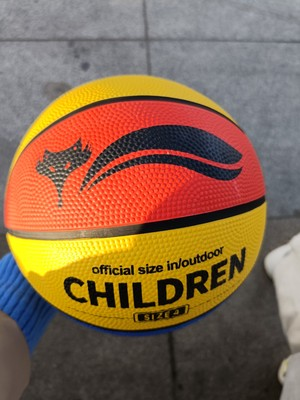ball: (4, 74, 268, 338)
